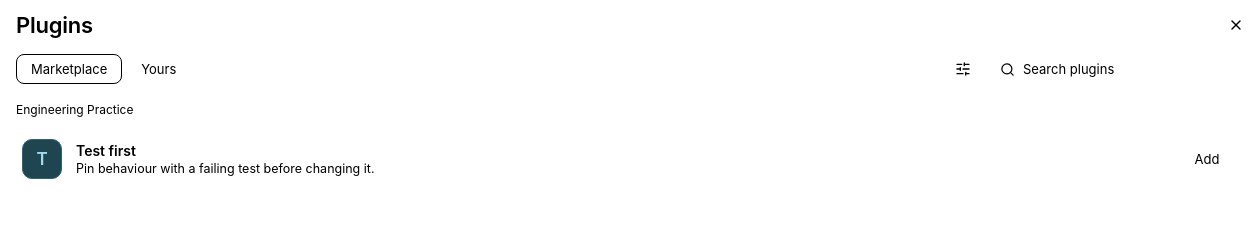
Given a plugin in the marketplace › When the signing key could not be stored, Then the fingerprint warning is shown
The image size is (1258, 237).
Click the button "Add" at [1207, 159], box [1176,145,1238,173]
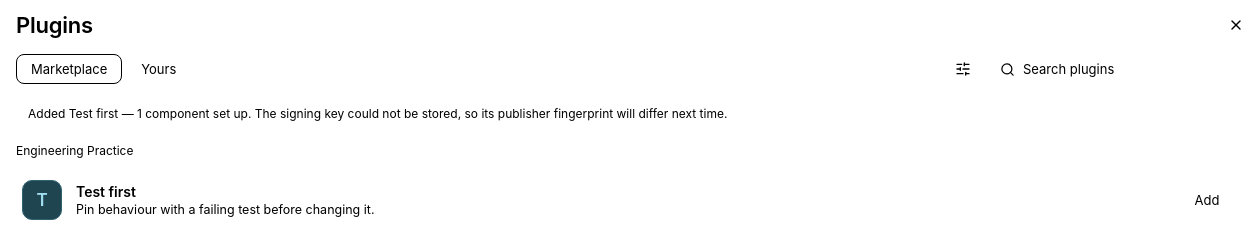
expect the text "publisher fingerprint will differ" is shown: met, box [28,106,727,121]
